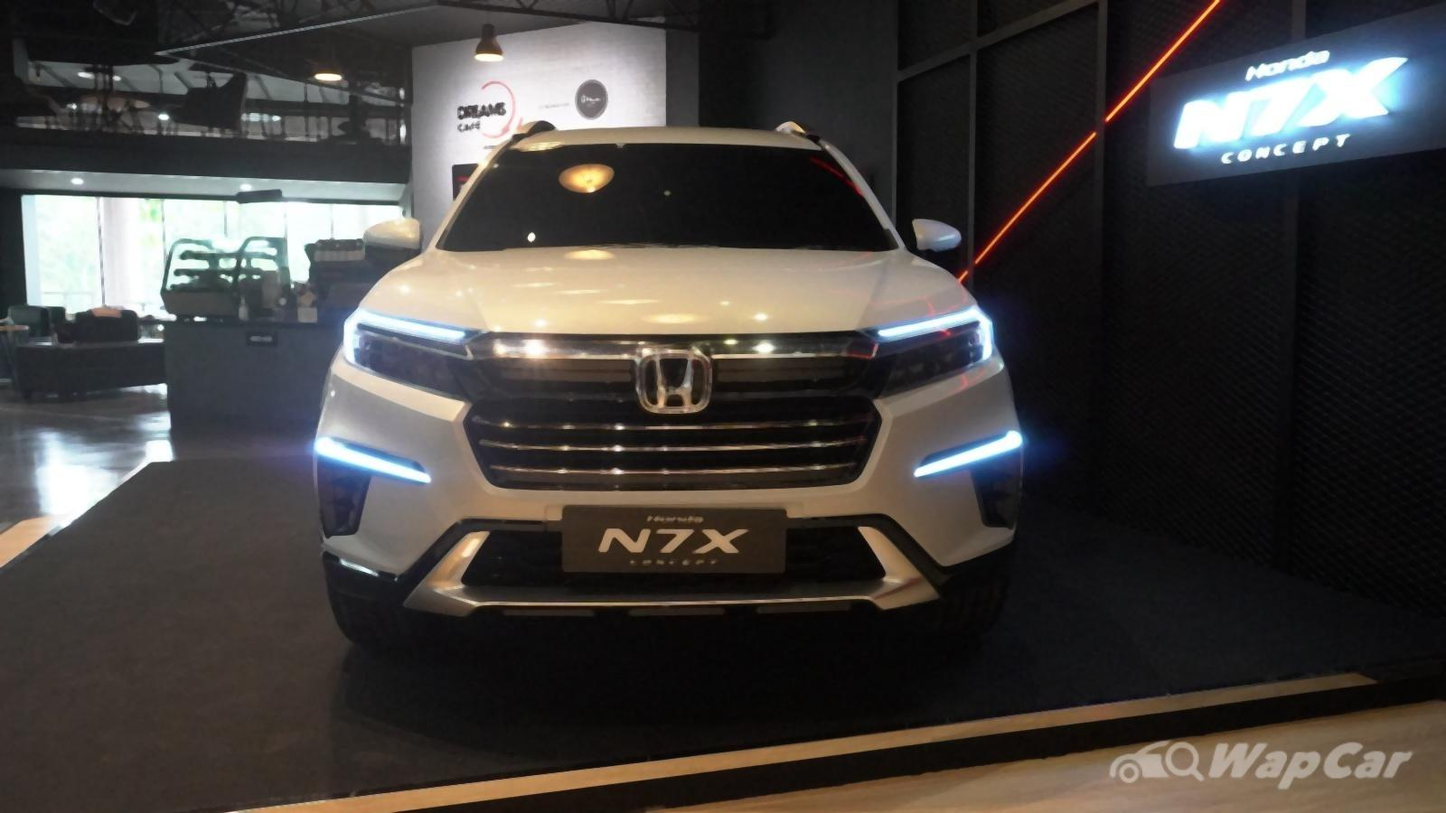Car hood: (340, 240, 977, 338)
Front bumper: (305, 369, 1035, 630)
Headlight - -L-: (856, 305, 998, 407)
Headlight - -R-: (337, 306, 484, 412)
Side mirror - -L-: (903, 213, 973, 262)
Side mirror - -R-: (360, 220, 431, 278)
